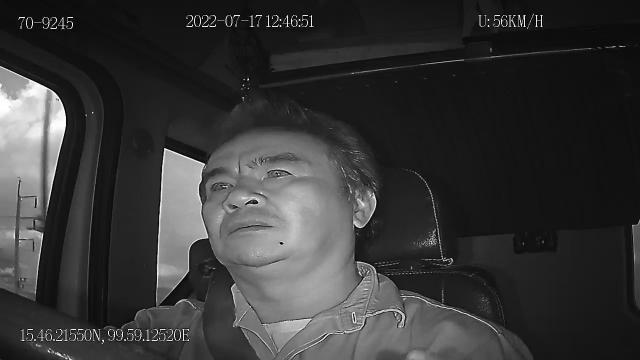SafeDriving: (247, 144, 306, 188), (255, 150, 302, 188), (203, 172, 239, 198)
Seatbelt: (202, 270, 262, 360)
